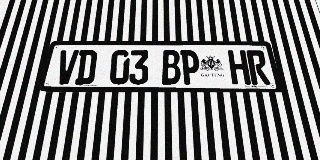0: (109, 50, 130, 84)
3: (129, 50, 149, 84)
B: (162, 50, 181, 84)
D: (74, 50, 98, 84)
H: (227, 50, 251, 85)
P: (180, 50, 201, 85)
R: (246, 50, 271, 85)
V: (54, 50, 79, 84)
